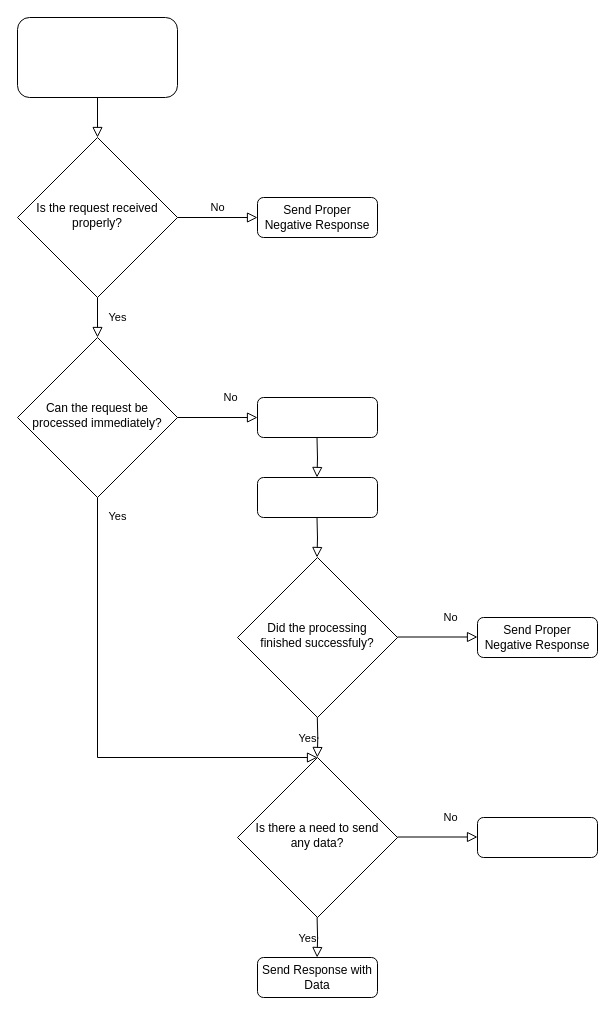
The diagram is 615 pixels wide and 1015 high, and some of its shapes have lost their labels. Here are the shapes that lost their labels. From the top down, the centre of each, then its label:
At (x=97, y=57): "One frame request received (CNT==0 in Message Options)".
At (x=317, y=417): "Send Pending Response".
At (x=317, y=497): "Process the message".
At (x=537, y=837): "Send Positive Response".
